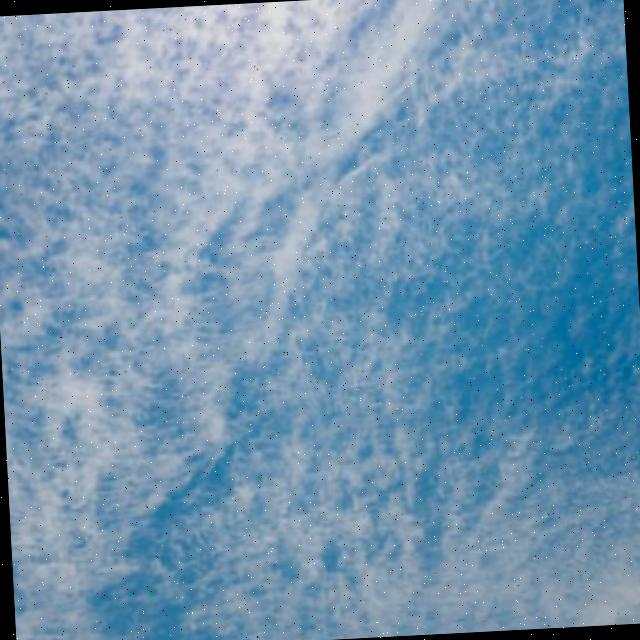Cc: (1, 20, 640, 617)
